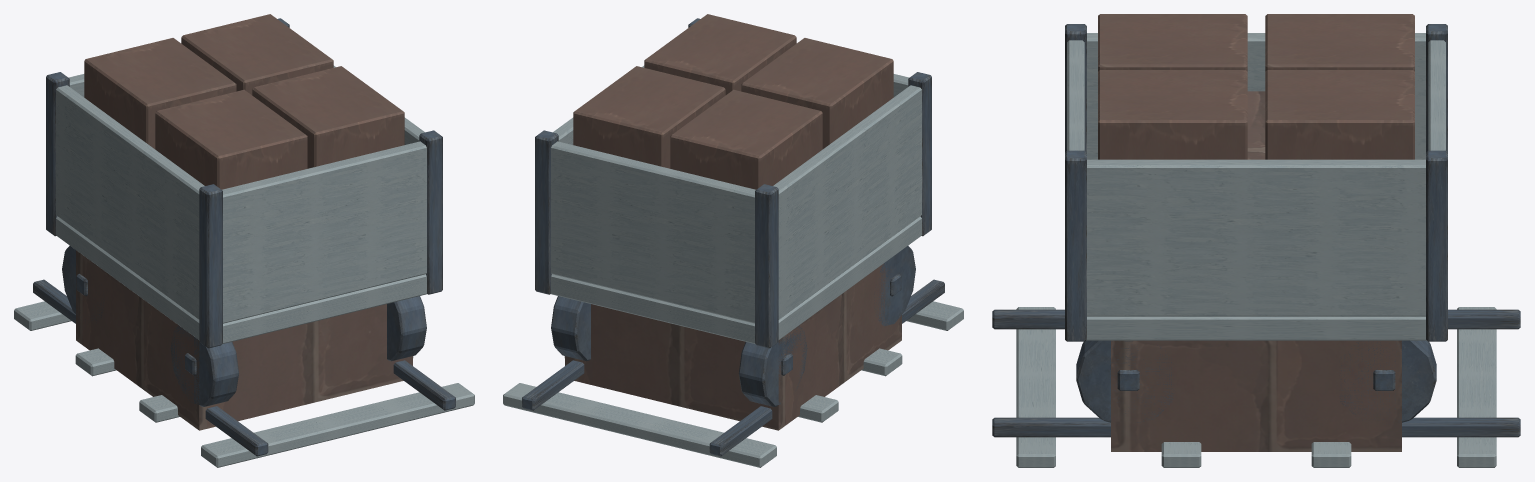
The model's file is candidate.glb.
3 renders of one model, left to right at view 1: azimuth 30°, elevation 25°; view 2: azimuth 150°, elevation 25°; view 3: azimuth 270°, elevation 25°, orthographic. The views are drawn at different scales.
Visible parts, largest first — view 1: VIS_timbersoot, VIS_brick, COL_crate, VIS_metal; view 2: VIS_timbersoot, VIS_brick, COL_crate, VIS_metal; view 3: VIS_timbersoot, VIS_brick, COL_crate, VIS_metal.
Boxes of the visible parts, x1=… form: VIS_timbersoot: x1=14, y1=65, x2=474, y2=467; VIS_brick: x1=84, y1=14, x2=404, y2=189; COL_crate: x1=76, y1=250, x2=412, y2=430; VIS_metal: x1=33, y1=18, x2=455, y2=456; VIS_timbersoot: x1=503, y1=65, x2=963, y2=467; VIS_brick: x1=573, y1=14, x2=893, y2=189; COL_crate: x1=565, y1=264, x2=901, y2=430; VIS_metal: x1=522, y1=18, x2=944, y2=456; VIS_timbersoot: x1=1016, y1=33, x2=1496, y2=467; VIS_brick: x1=1098, y1=14, x2=1414, y2=159; COL_crate: x1=1111, y1=91, x2=1401, y2=451; VIS_metal: x1=992, y1=24, x2=1520, y2=437.
Size of the model in its own units: 0.8 by 0.82 by 1.2.
3 materials, 3 textured.
